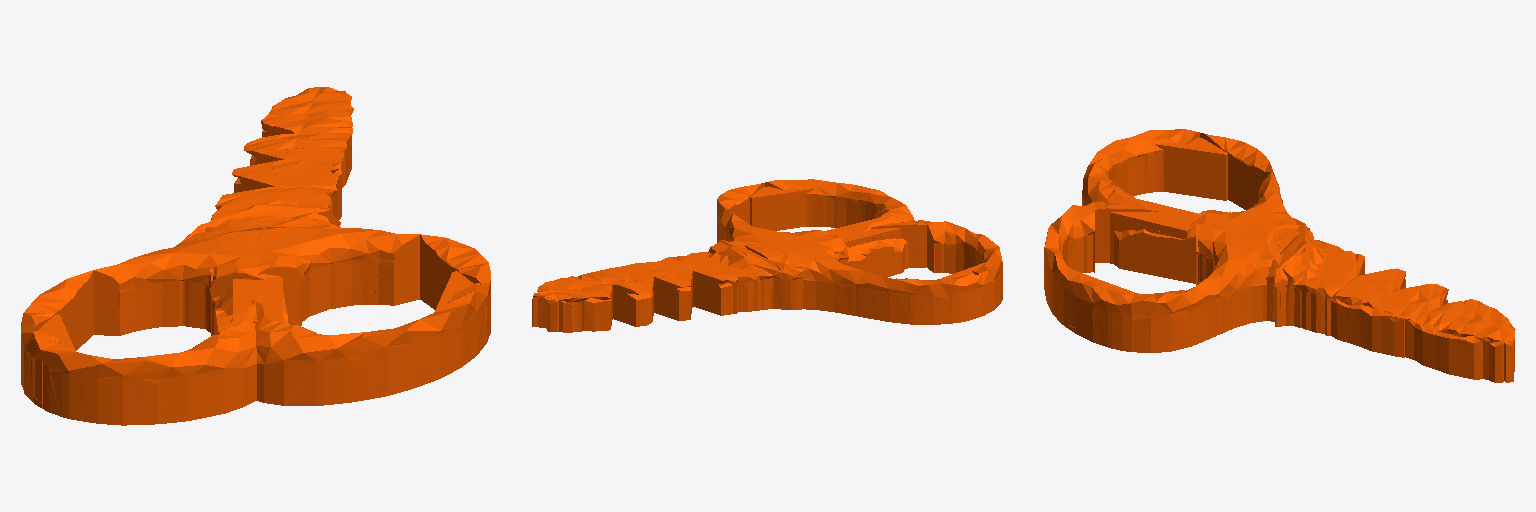
robot.urdf — yellow_scissor_standing:
<?xml version="1.0" ?>
<robot name="yellow_scissor_standing">
   <material name="obj_color">
      <color rgba="1.0 0.423529411765 0.0392156862745 1.0"/>
   </material>
   <link name="top">
      <inertial>
         <origin rpy="0.001079932701420251 0.00371440500640562 0.004702643096188783" xyz="0.1370156928098471 0.2432409195647048 0.01343409804161369"/>
         <mass value="0.7387392261869606"/>
         <inertia ixx="0.002415554635472278" ixy="-0.00131703914978073" ixz="1.44871448991094e-05" iyy="0.002378932342932822" iyz="1.782993824456966e-05" izz="0.004702493825609553"/>
      </inertial>
      <visual>
         <origin rpy="0 0 0" xyz="0 0 0"/>
         <geometry>
            <mesh filename="top_watertight_tiny.stl" scale="1 1 1"/>
         </geometry>
         <material name="obj_color"/>
      </visual>
      <collision>
         <origin rpy="0 0 0" xyz="0 0 0"/>
         <geometry>
            <mesh filename="top_watertight_tiny.obj" scale="1 1 1"/>
         </geometry>
      </collision>
   </link>
   <link name="bottom">
      <inertial>
         <origin rpy="1.633333333199431e-08 1.633333333199431e-08 1.633333333362855e-08" xyz="0.3464080000000008 0.3464080000000008 0.3464080000000008"/>
         <mass value="0.0009800000000000017"/>
         <inertia ixx="1.633333333253906e-08" ixy="5.447480642029219e-19" ixz="5.447480642029219e-19" iyy="1.633333333253906e-08" iyz="5.447480642029219e-19" izz="1.633333333253906e-08"/>
      </inertial>
      <visual>
         <origin rpy="0 0 0" xyz="0 0 0"/>
         <geometry>
            <mesh filename="bottom_watertight_tiny.stl" scale="1 1 1"/>
         </geometry>
         <material name="obj_color"/>
      </visual>
   </link>
   <joint name="rotation" type="revolute">
      <origin xyz="0 0 0"/>
      <axis xyz="0 0 -1"/>
      <parent link="bottom"/>
      <child link="top"/>
      <dynamics damping="1.0" friction="1.0"/>
      <limit effort="0.1" velocity="0.1" lower="0" upper="0.001"/>
   </joint>
</robot>

--- What the picture shows (computed from the rendered views, not written in the file) ---
Views: 3 orthographic renders of the robot side by side, from view 1: azimuth 30°, elevation 25°; view 2: azimuth 150°, elevation 25°; view 3: azimuth 270°, elevation 25°.
Model yellow_scissor_standing with 2 links and 1 joints (1 revolute), rooted at bottom, posed all joints at 0.
Visible links, largest first — view 1: top; view 2: top; view 3: top.
Boxes of the visible links, x1,y1,x2,y2 form: top: [21, 87, 490, 425]; top: [532, 179, 1002, 332]; top: [1044, 129, 1515, 382].
Size in the robot's own frame: 0.2369 by 0.2312 by 0.0317 metres.
1 mesh visuals loaded from 2 distinct referenced files (1 binary STL); not drawn: 1 (reference not matched to a file when rendering).
